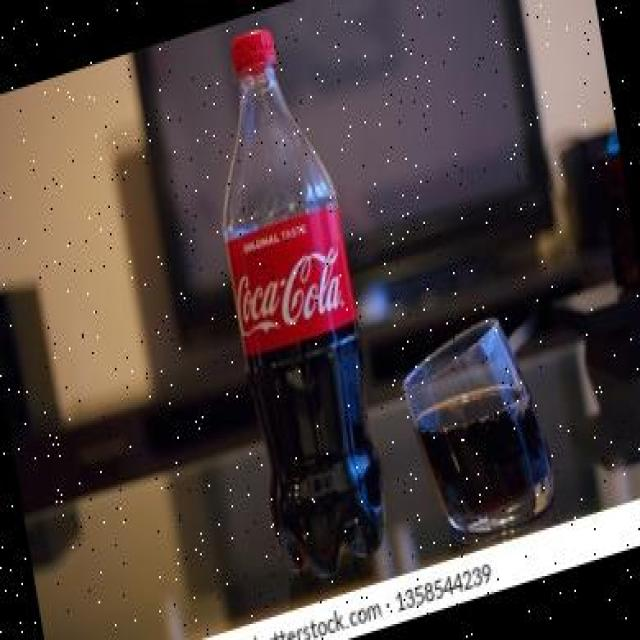coca-cola: (186, 7, 406, 599)
